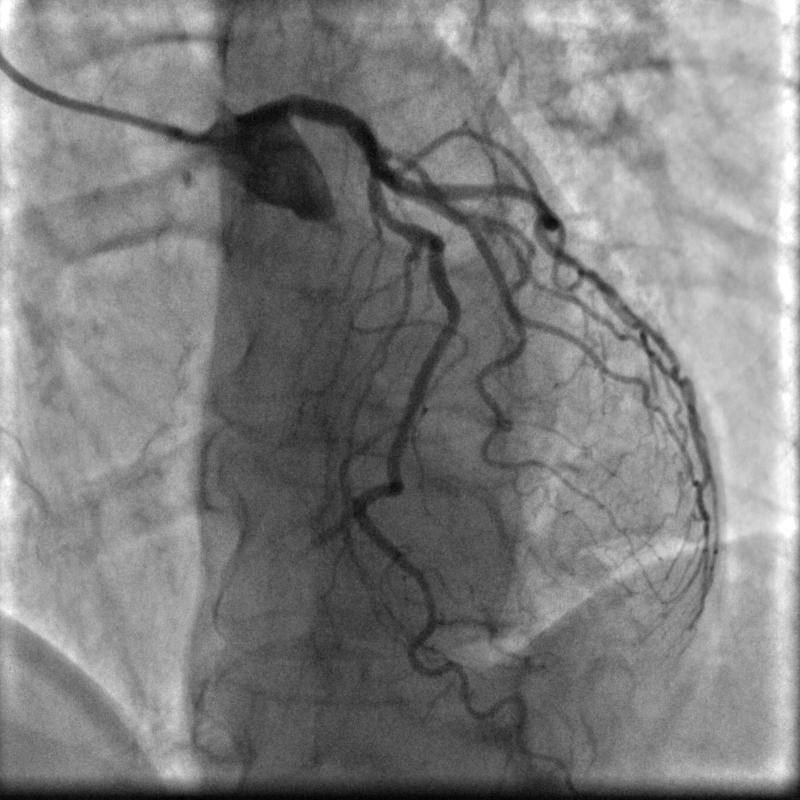Stenosis: (375, 204, 405, 233)
